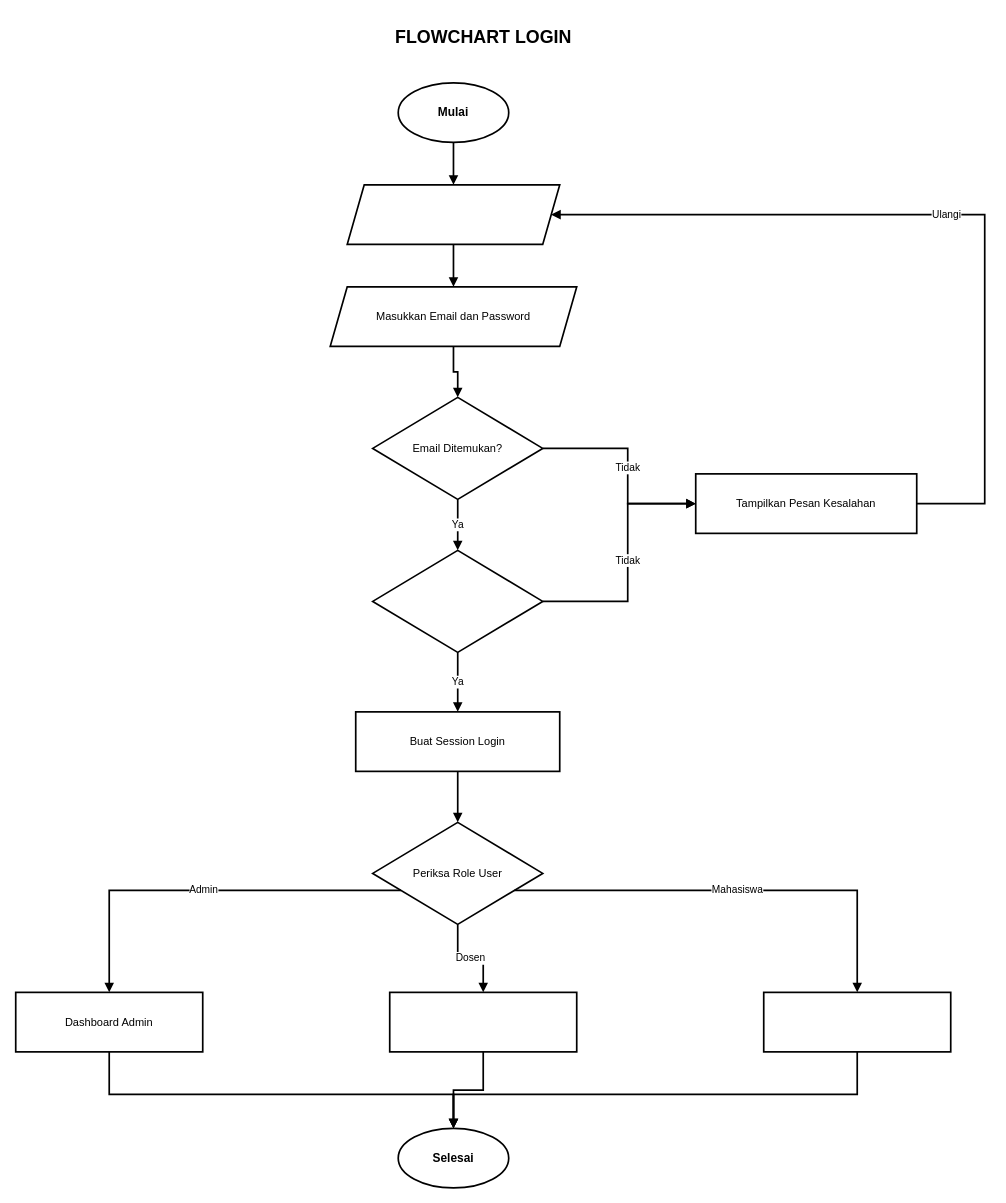
This 1006x1203 diagram has some shape labels left out. Each missing label, with the box of its shape:
Dashboard Dosen: (388, 991, 577, 1052)
Dashboard Mahasiswa: (762, 991, 951, 1052)
Password Benar?: (371, 549, 543, 653)
Tampilkan Form Login: (346, 184, 560, 245)
